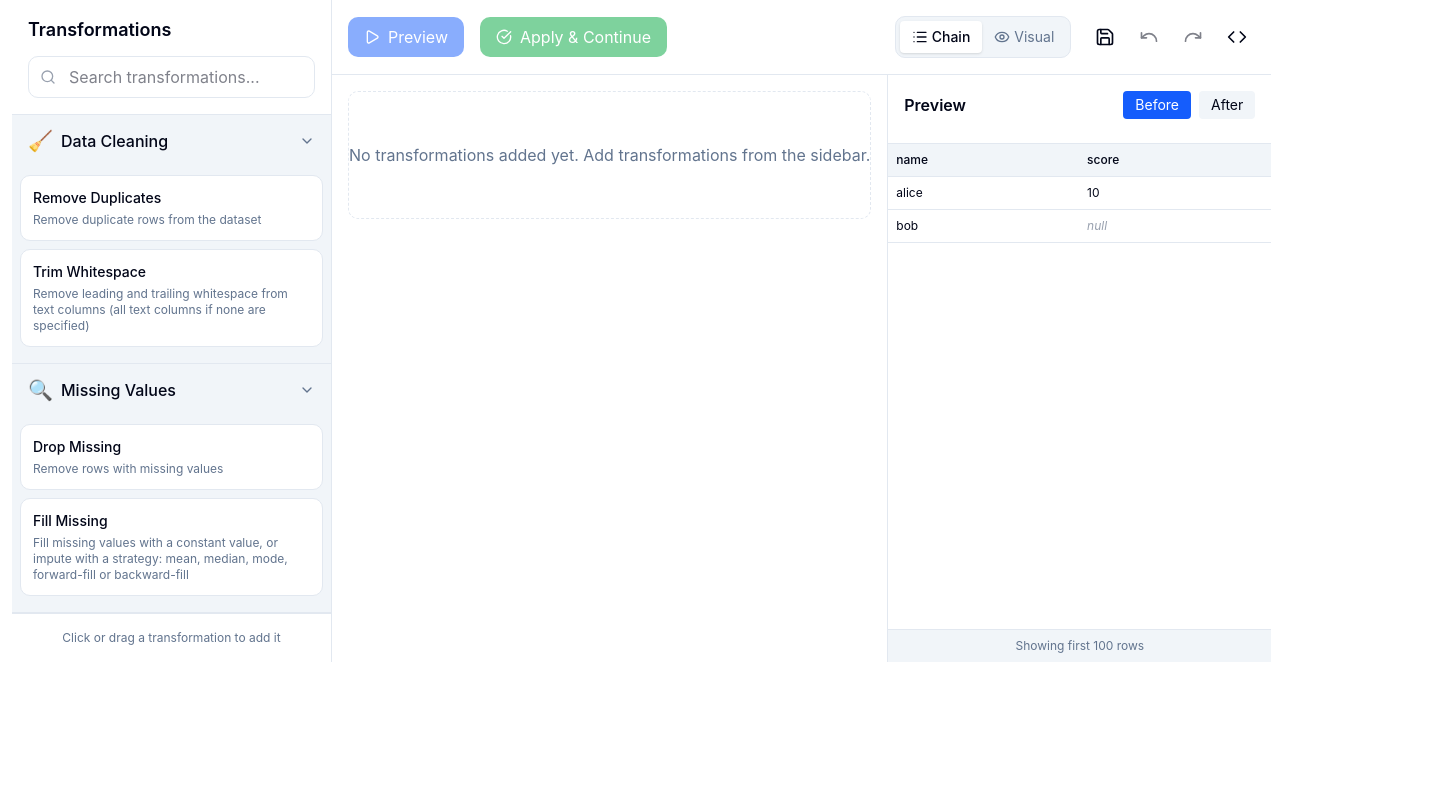
Test: TransformationPipeline actions (#855) › drops the steps a failed apply already applied, so a retry sends only the rest
Step 1. Click the button with aria-label "add trim whitespace" → [172, 298], box [20,249,323,347]
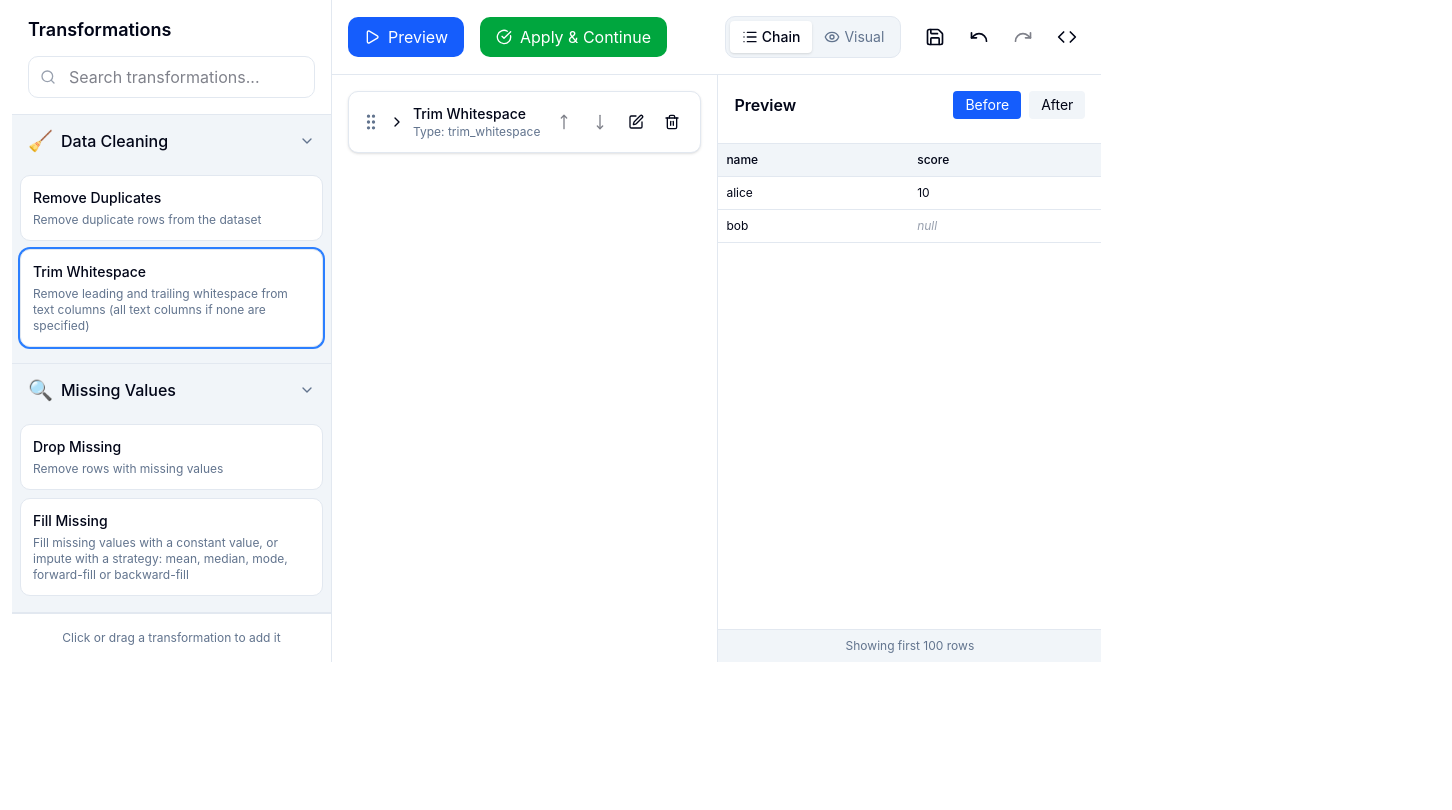
Step 2. Click the button with aria-label "add remove duplicates" → [97, 198], box [20,175,323,241]
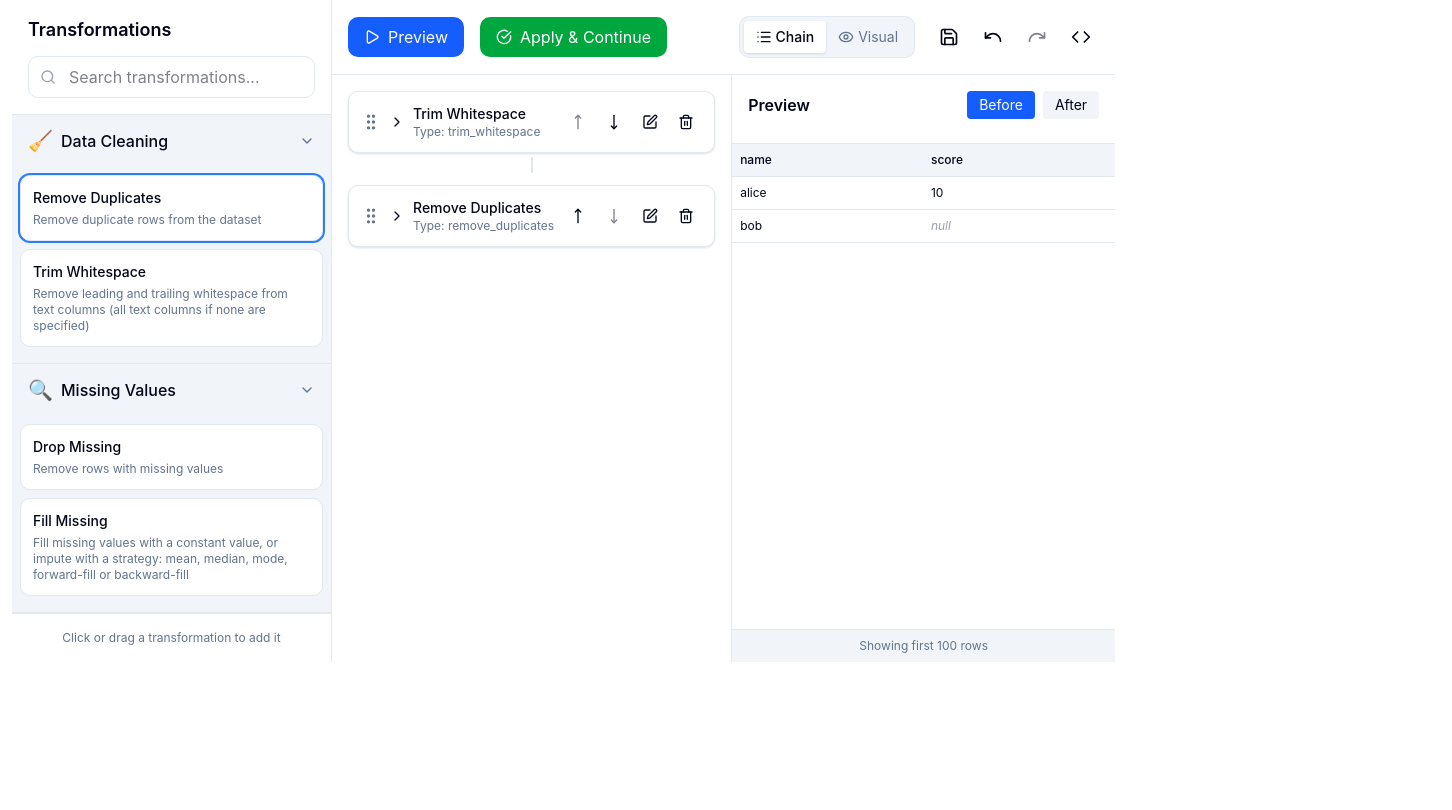
Step 3. Click the button "Apply & Continue" → [574, 37], box [480,17,667,57]
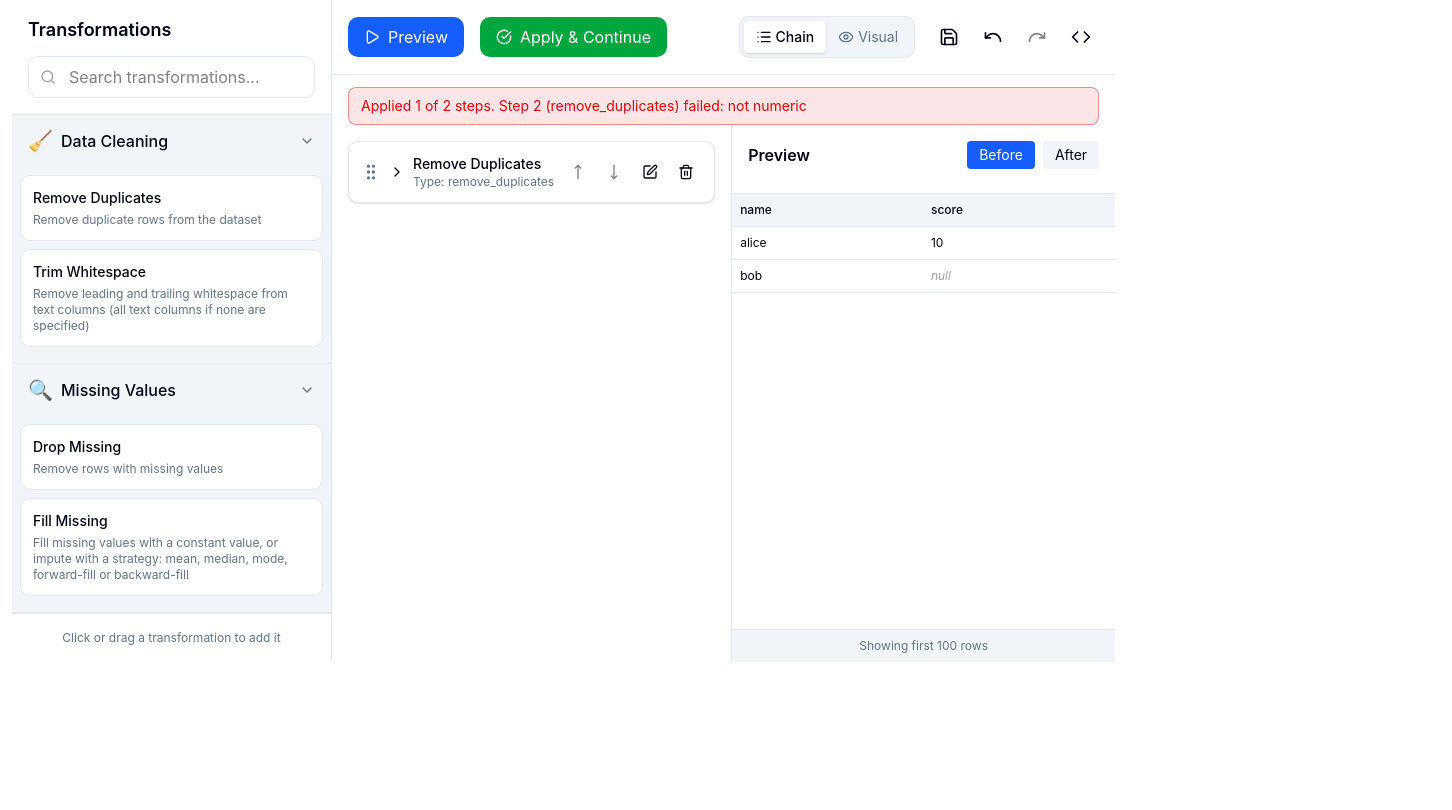
Check: the text "Trim Whitespace" is shown once, box [33,263,146,280]
Check: the message with test id "pipeline-error" reads "Applied 1 of 2 steps. Step 2 (remove_duplicates) failed: not numeric", box [361,97,807,114]
